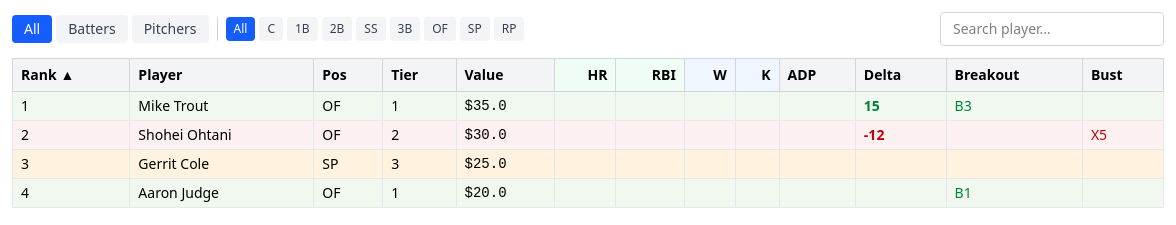
Test case: DraftBoardTable › filters by player type when Pitchers tab is clicked
Click the button "Pitchers" at [170, 29], box x1=132 y1=15 x2=208 y2=43
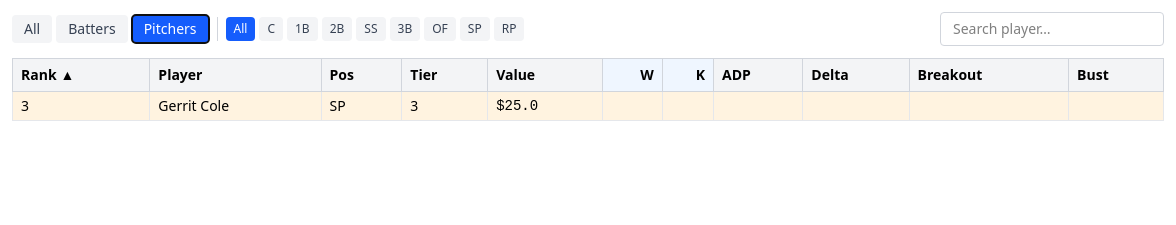
Check: the text "Gerrit Cole" is shown, box x1=150 y1=92 x2=321 y2=120
Check: the text "Mike Trout" is gone
